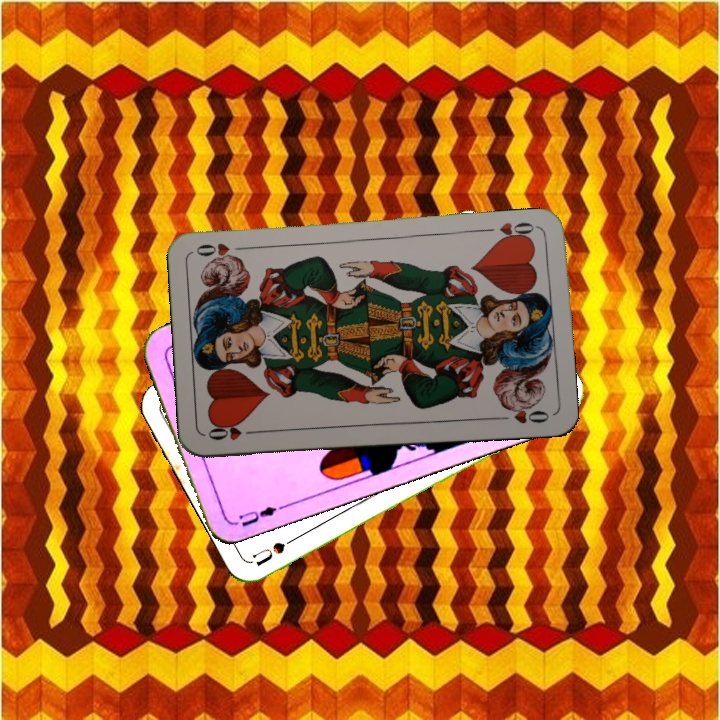EU: (234, 502, 279, 529)
HO: (204, 420, 262, 443), (492, 218, 540, 245)
SU: (249, 529, 305, 569)
